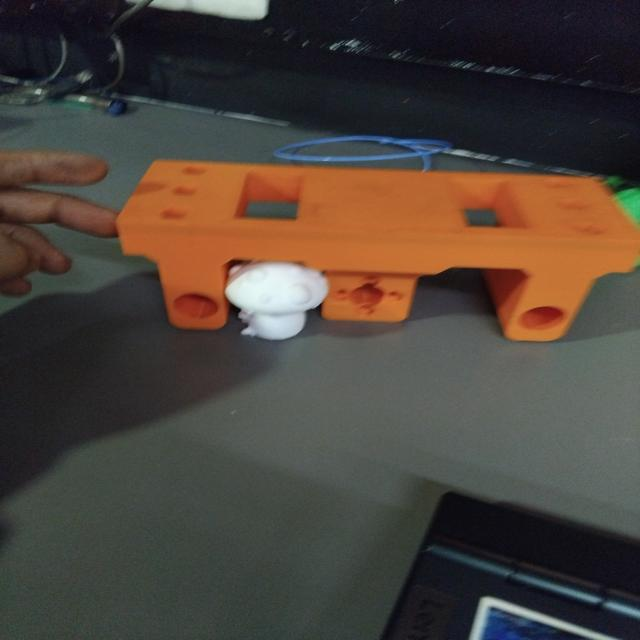Hongo: (220, 256, 333, 344)
